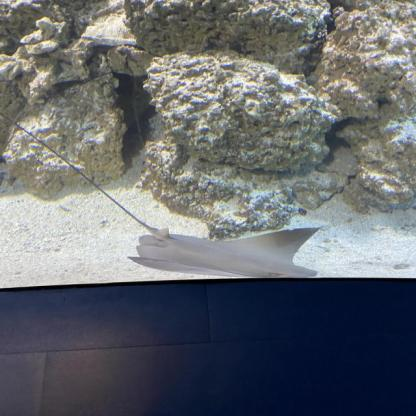stingray: (125, 227, 320, 281)
